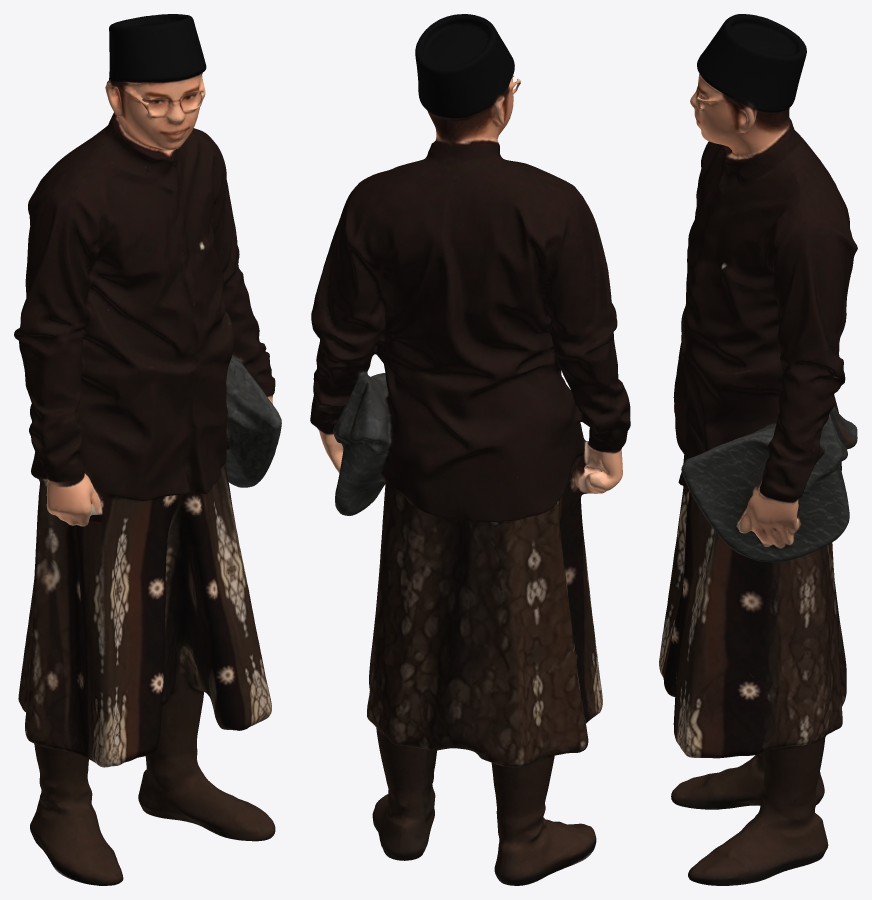
Rendered from enemy.glb.
3 views of the same model, side by side, from view 1: azimuth 30°, elevation 25°; view 2: azimuth 150°, elevation 25°; view 3: azimuth 270°, elevation 25° (orthographic).
Bounding box in the file's own units: 0.6709 × 1.9 × 0.4191.
Materials: 1 (1 with a texture image).
